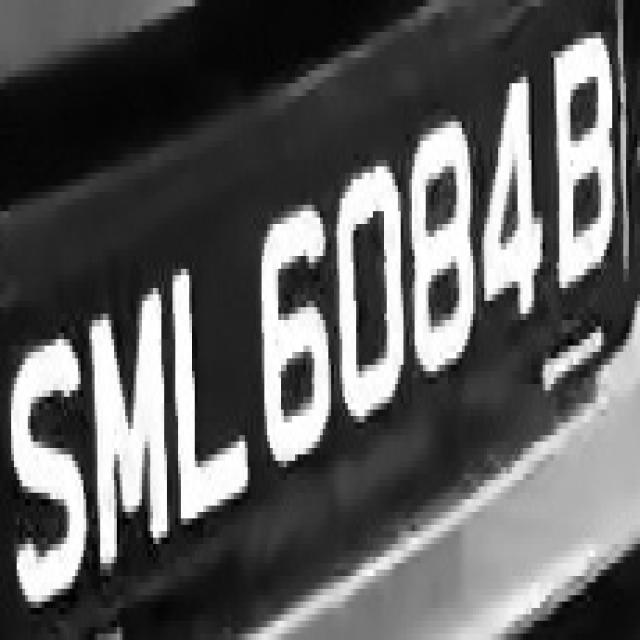0: (325, 147, 412, 435)
4: (470, 64, 543, 339)
6: (254, 198, 328, 474)
8: (406, 96, 479, 390)
B: (554, 6, 620, 320)
L: (167, 256, 256, 550)
M: (81, 275, 178, 576)
S: (8, 314, 92, 608)
